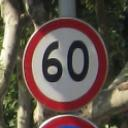speed_limit_60: (21, 16, 110, 110)
